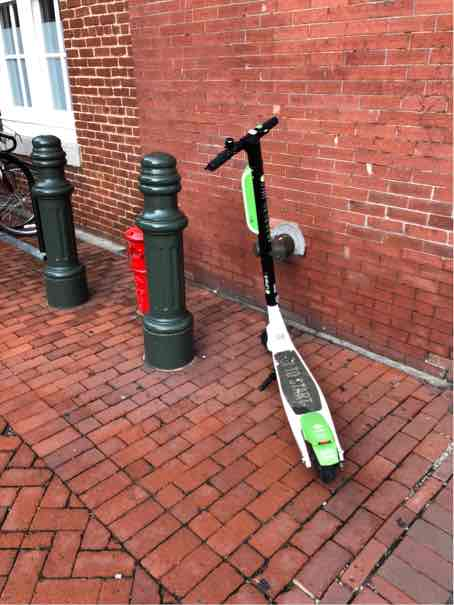scooter: (198, 106, 361, 495)
